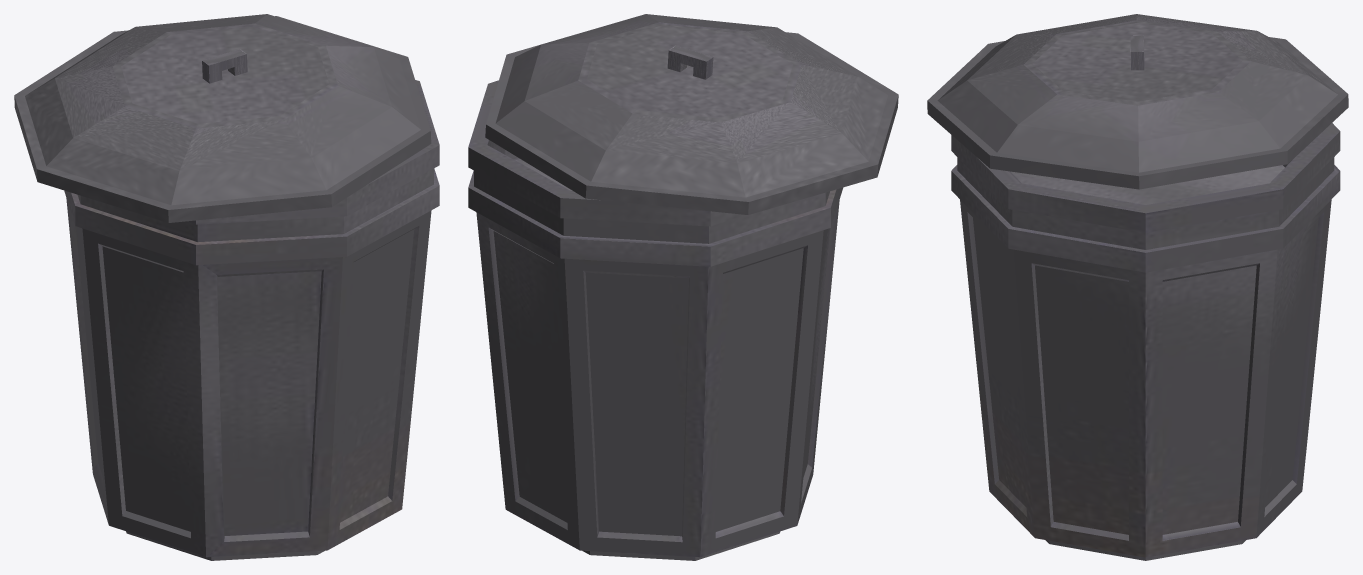
File: trash2.fbx
3 renders of one model, left to right at view 1: azimuth 30°, elevation 25°; view 2: azimuth 150°, elevation 25°; view 3: azimuth 270°, elevation 25°, orthographic. The views are drawn at different scales.
Visible parts, largest first — view 1: Cube.018, Cube.019; view 2: Cube.018, Cube.019; view 3: Cube.018, Cube.019.
Boxes of the visible parts, x1=… form: Cube.018: x1=64, y1=80, x2=439, y2=560; Cube.019: x1=14, y1=14, x2=431, y2=222; Cube.018: x1=468, y1=80, x2=843, y2=560; Cube.019: x1=485, y1=14, x2=898, y2=214; Cube.018: x1=951, y1=123, x2=1340, y2=560; Cube.019: x1=927, y1=14, x2=1348, y2=189.
Size of the model in its own units: 51.16 by 57.72 by 49.25.
1 material, 1 textured.
